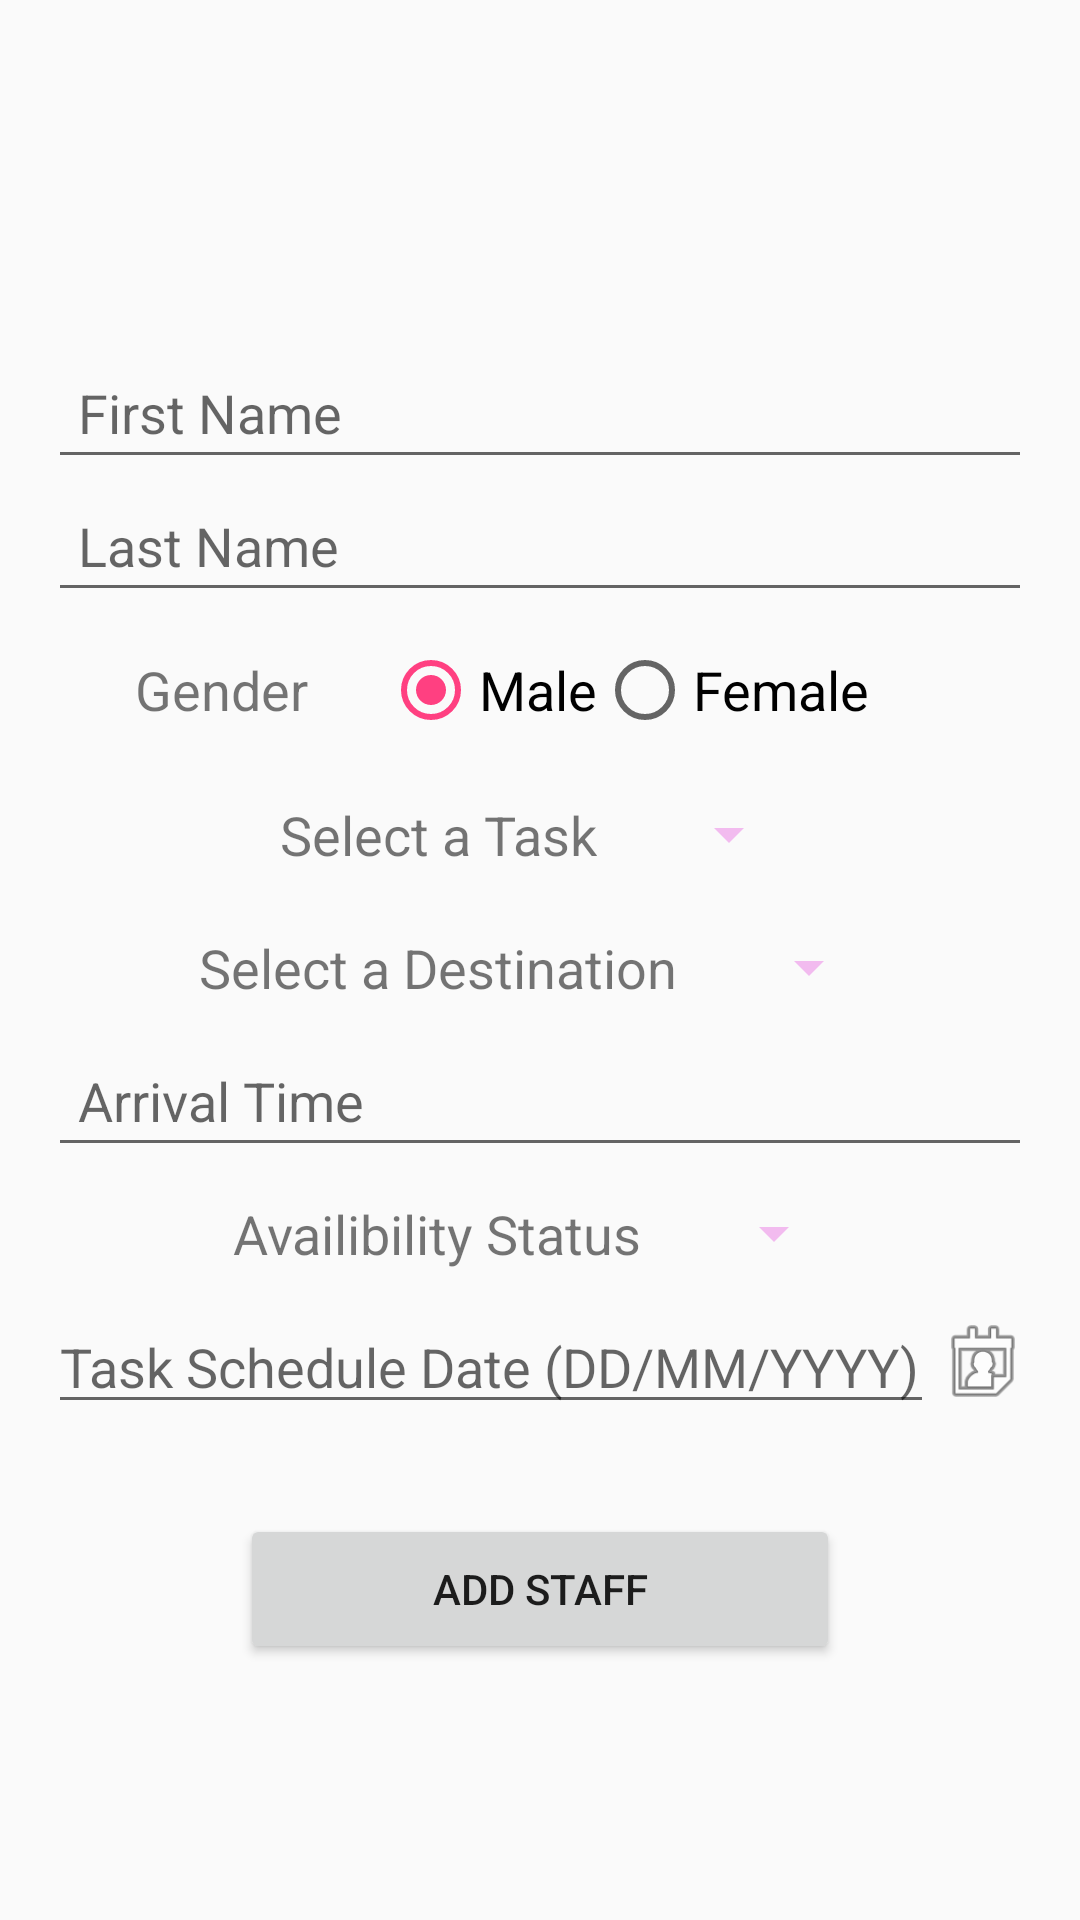

Named icons in this screenshot (1080*1920) and their centers, [x,y]:
calendar: [983,1361]
